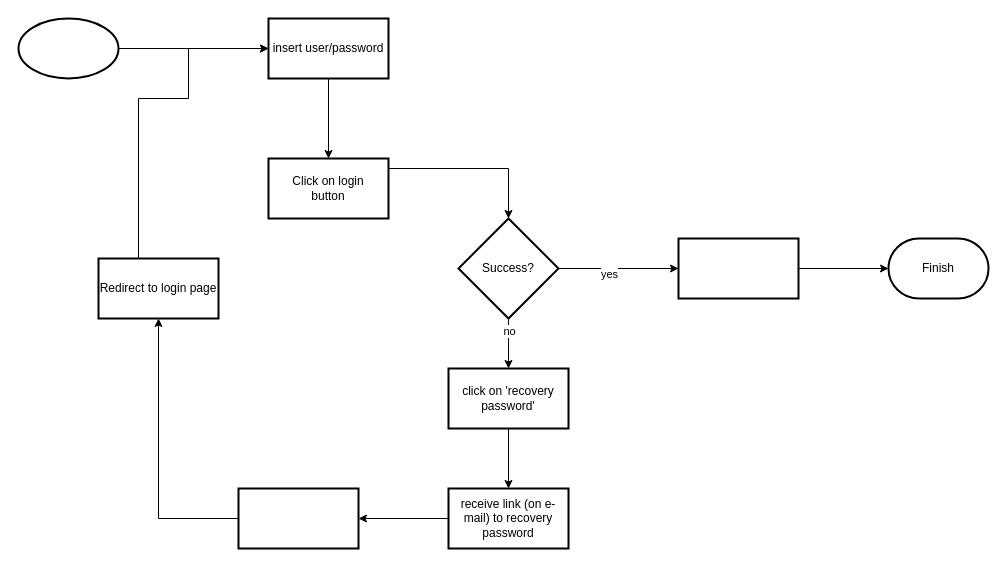
Some shapes in this 1006 by 566 pixel diagram are drawn without their labels. Each missing label, with the centre of its shape:
"Create new password" belongs at (x=298, y=518).
"Open login page" belongs at (x=68, y=48).
"redirect to another page according profile" belongs at (x=738, y=268).
